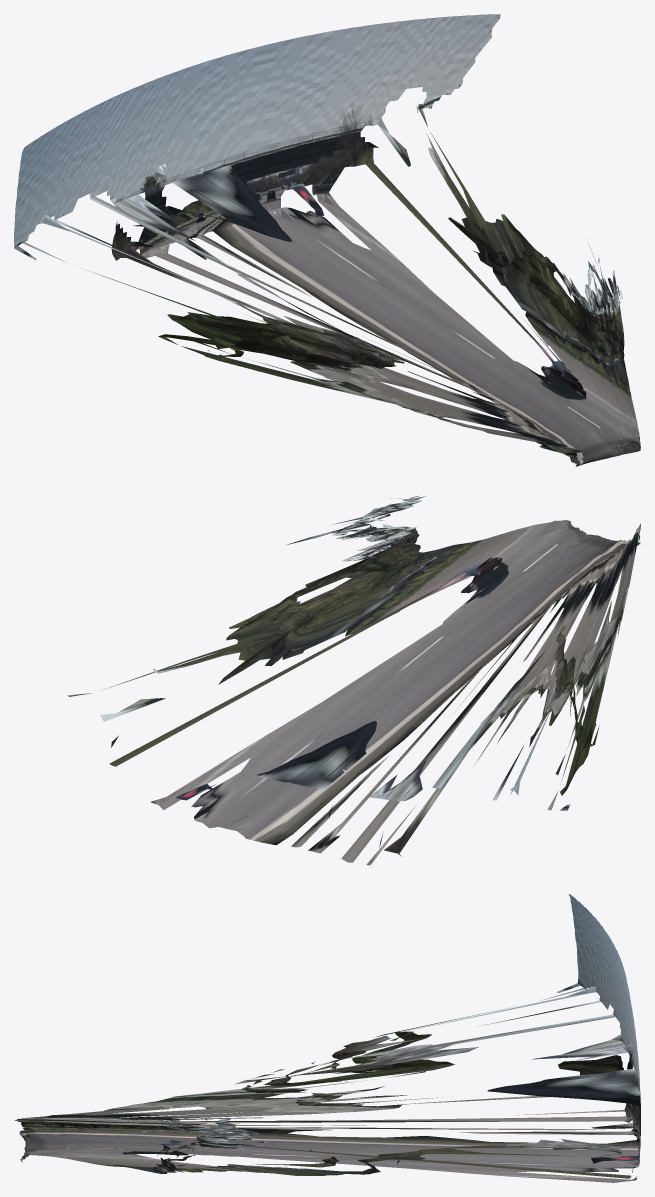
3 renders of one model, top to bottom at view 1: azimuth 30°, elevation 25°; view 2: azimuth 150°, elevation 25°; view 3: azimuth 270°, elevation 25°, orthographic. The views are drawn at different scales.
Parts seen in each view (by area): view 1: defaultobject; view 2: defaultobject; view 3: defaultobject.
Boxes of the visible parts, left/top/right/bottom form: defaultobject: left=14, top=14, right=640, bottom=466; defaultobject: left=67, top=495, right=640, bottom=865; defaultobject: left=14, top=894, right=640, bottom=1182.
Size of the model in its own units: 36.34 by 12.8 by 44.92.
Materials: 1 (1 with a texture image).
